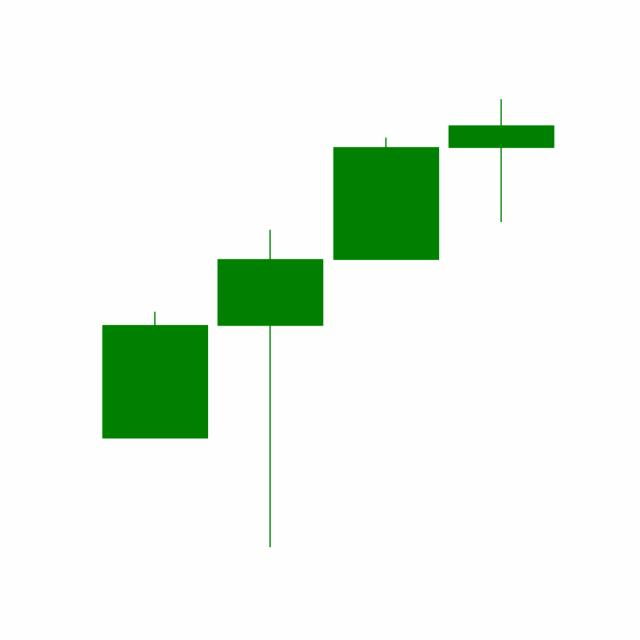Spinning Top: (443, 97, 559, 224)
